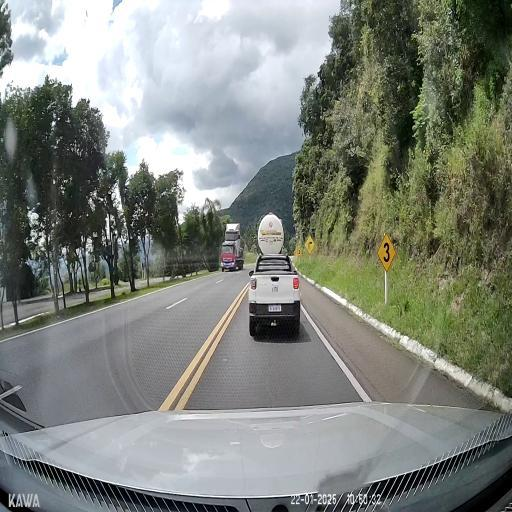A-1b: (305, 236, 315, 254)
